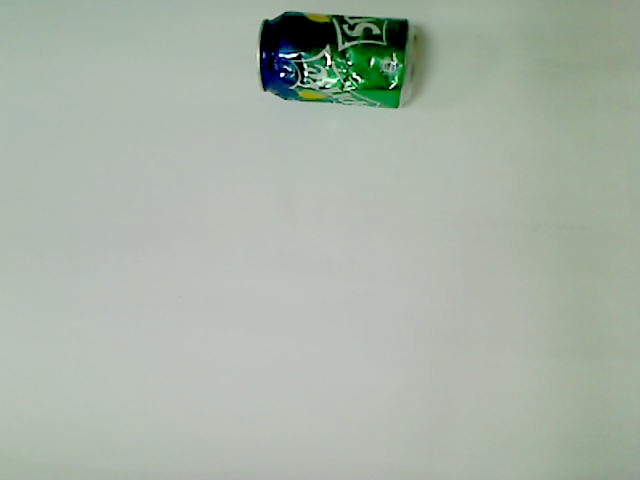can: (254, 7, 425, 114)
